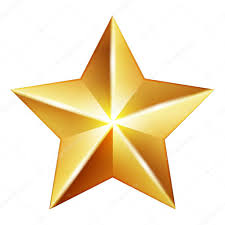star: (9, 14, 216, 212)
